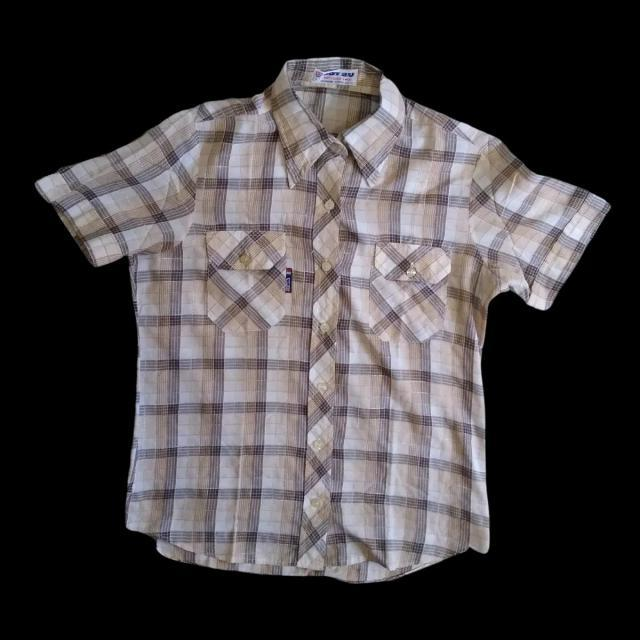short sleeve shirt: (29, 54, 613, 586)
